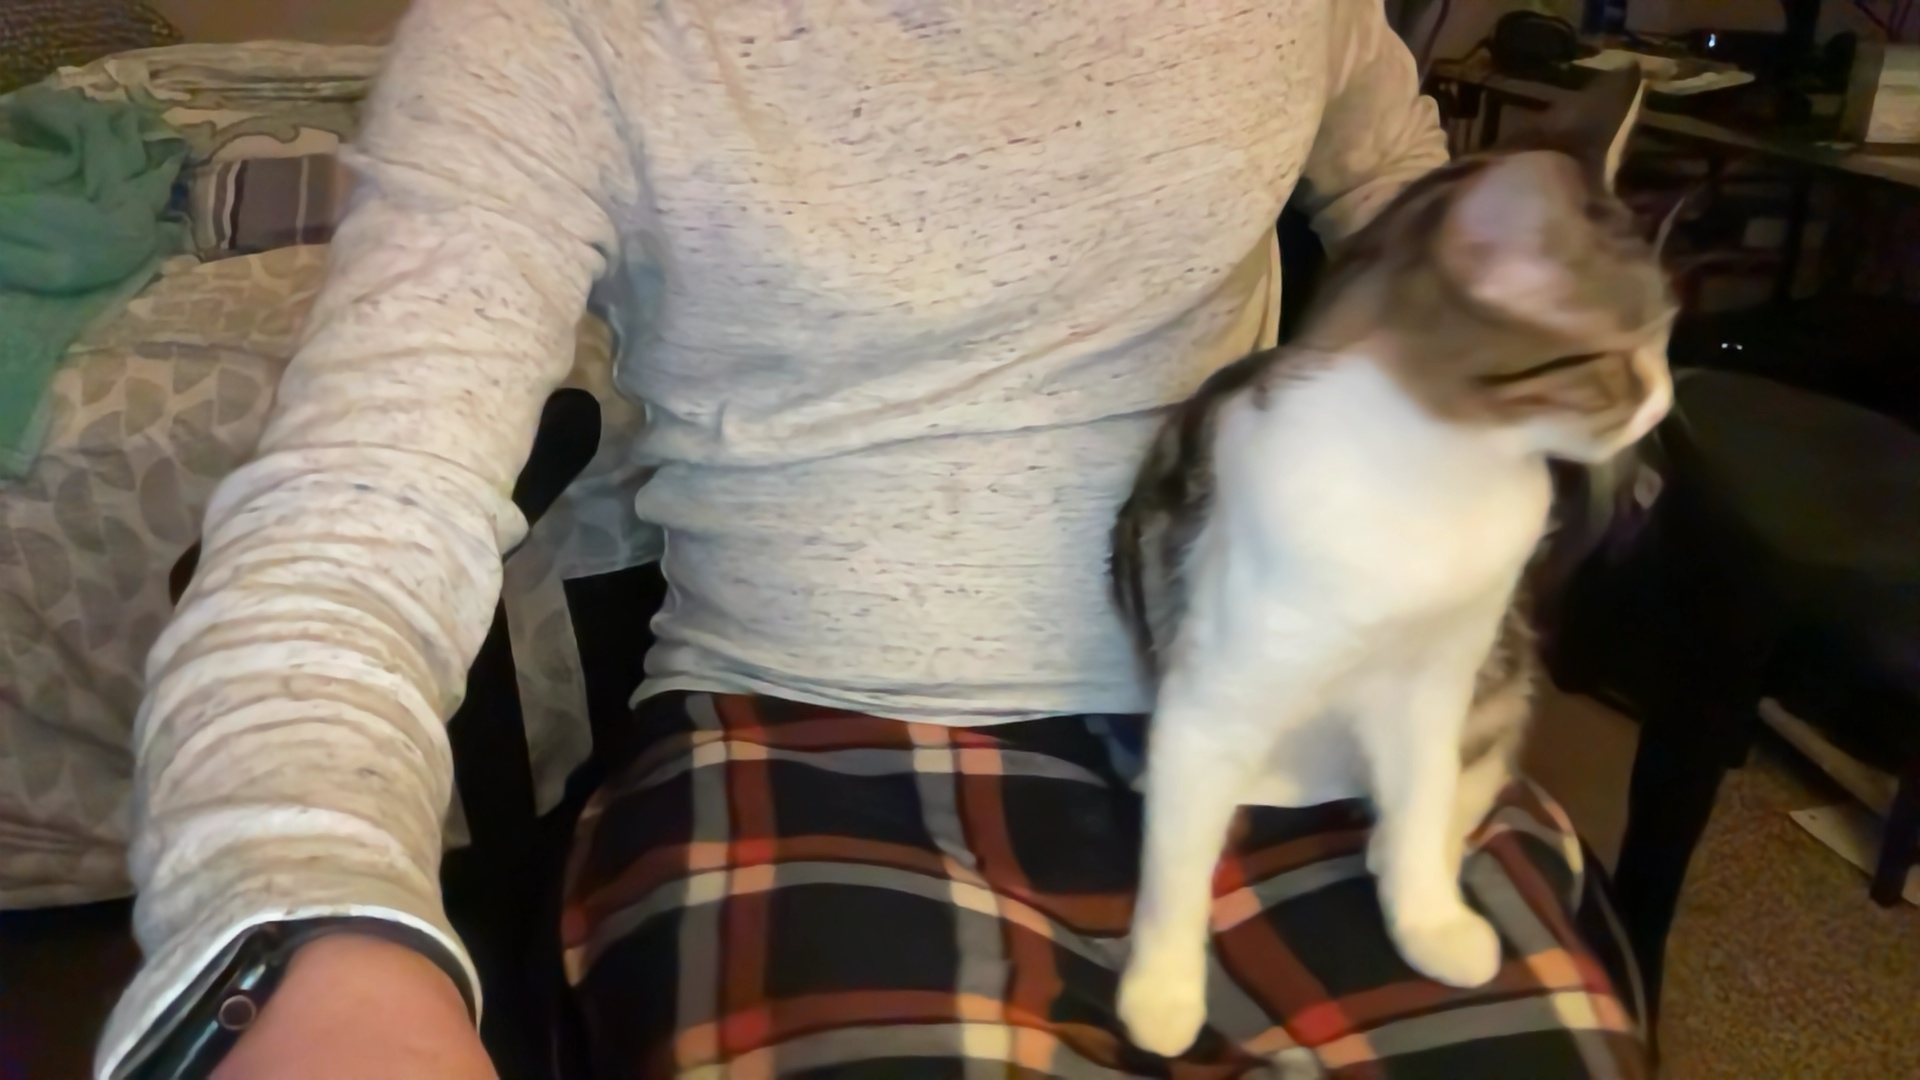cat: (1098, 57, 1691, 1068)
